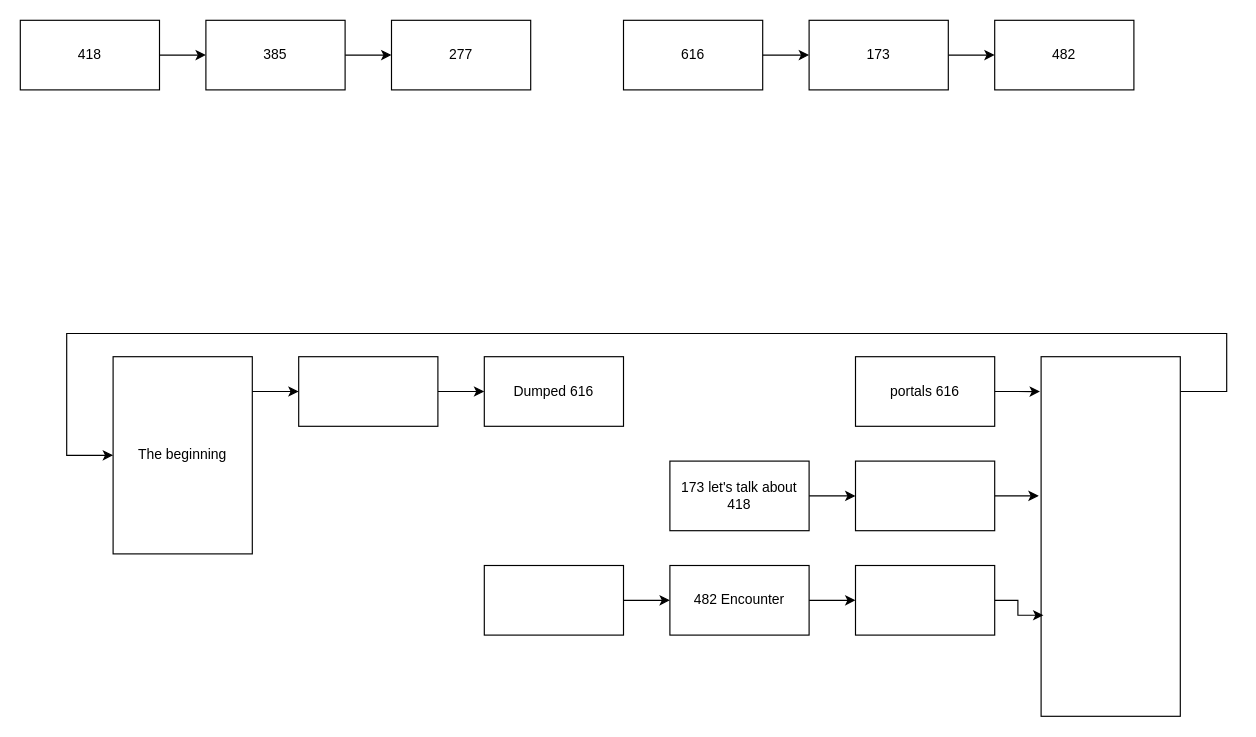
Image size: 1256x737. Some labels were removed from this diagram. Each missing label, with the centre of its shape:
173 final battle: pixel 924 495
482 Machine: pixel 924 599
482 Too late...: pixel 553 599
Ormkirk 616: pixel 368 391
the end: pixel 1110 536
